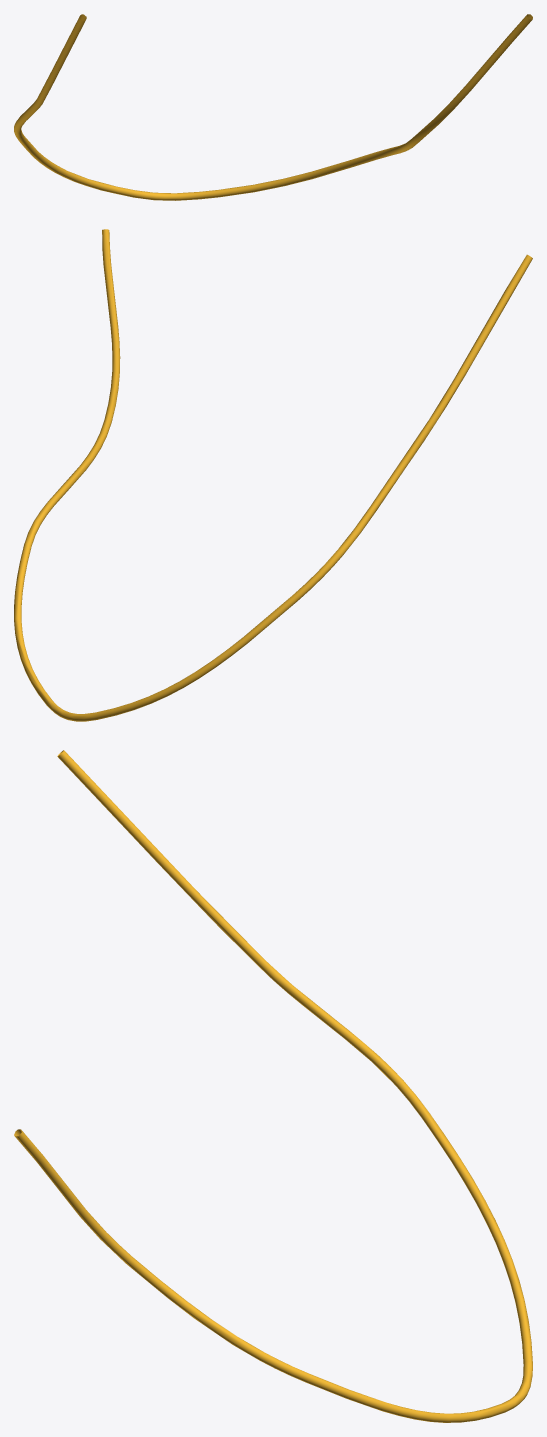
Rendered from nervoso-superior-lateral-brachial-cutaneous-nerve-r.glb.
3 renders of one model, top to bottom at view 1: azimuth 30°, elevation 25°; view 2: azimuth 150°, elevation 25°; view 3: azimuth 270°, elevation 25°, orthographic. The views are drawn at different scales.
Parts seen in each view (by area): view 1: Superior lateral brachial cutaneous nerve.r; view 2: Superior lateral brachial cutaneous nerve.r; view 3: Superior lateral brachial cutaneous nerve.r.
Part boxes in pixels (x1=…): Superior lateral brachial cutaneous nerve.r: x1=14, y1=14, x2=532, y2=200; Superior lateral brachial cutaneous nerve.r: x1=14, y1=229, x2=532, y2=721; Superior lateral brachial cutaneous nerve.r: x1=14, y1=750, x2=532, y2=1422.
Bounding box in the file's own units: 0.0666 × 0.0561 × 0.0544.
